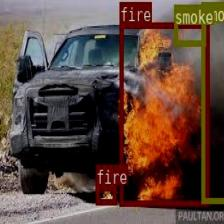fire: (119, 22, 209, 205), (95, 184, 116, 203)
smoke: (201, 1, 224, 202), (173, 4, 205, 45)
